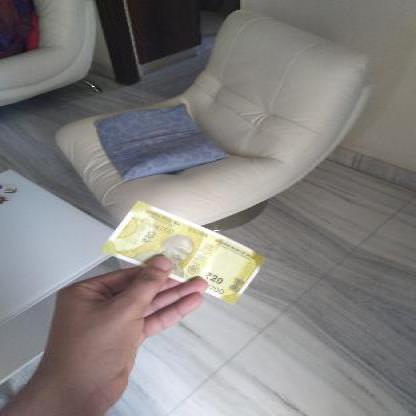New20Front: (107, 202, 261, 299)
